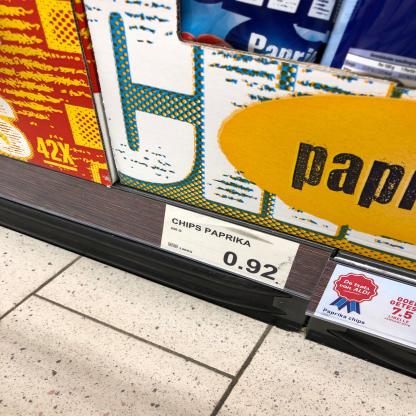prtg: (160, 205, 302, 291)
